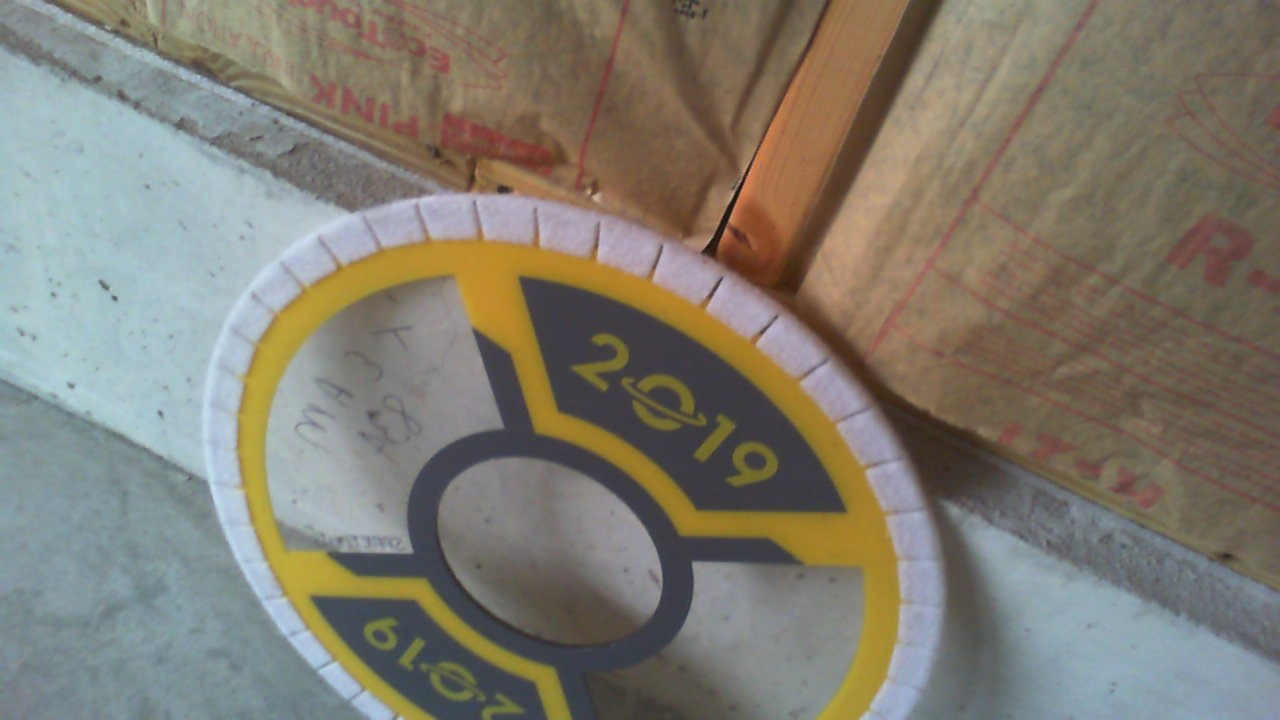Hatch: (201, 192, 949, 720)
